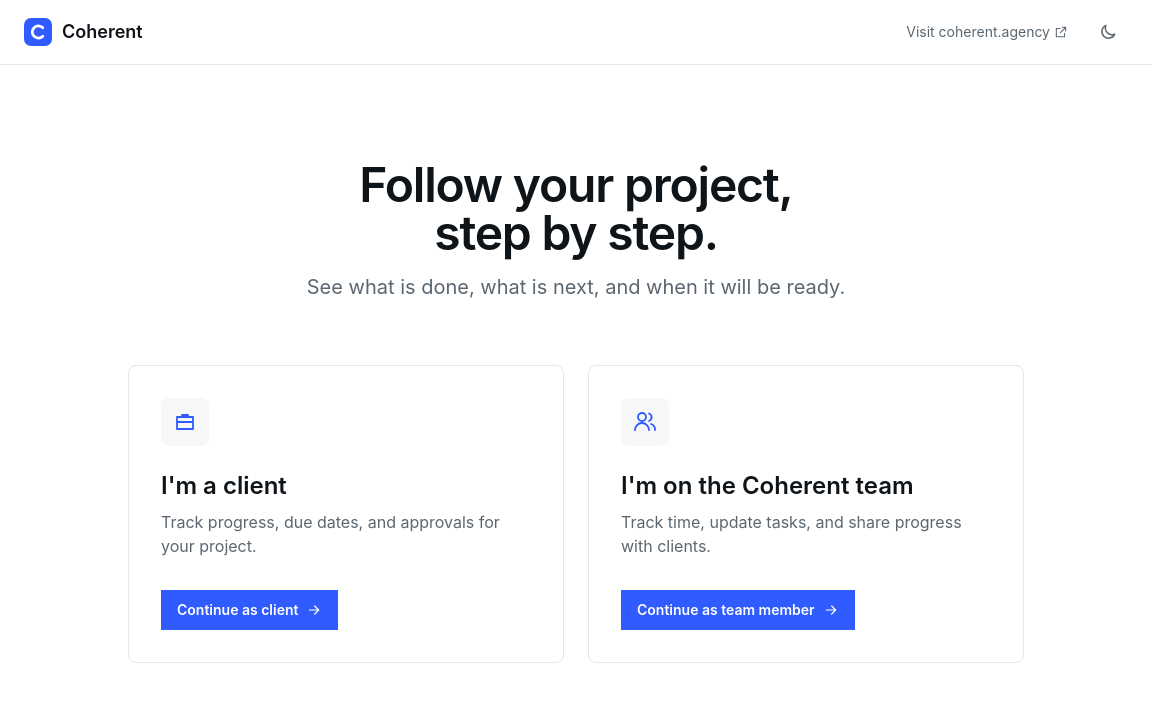
it: landing page › the client card leads to the client login and remembers the choice
Click the button "I'm a client" at [346, 514], box [128,365,564,663]
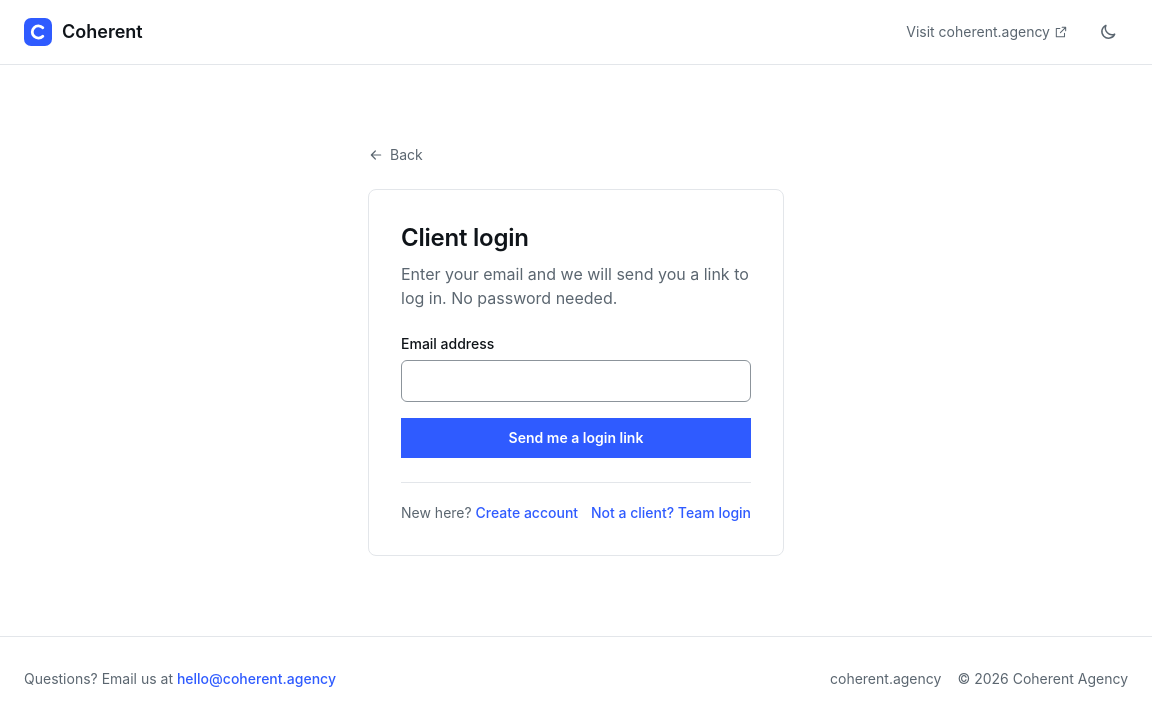
Check: the heading "Client login" is shown, box [401,223,529,252]
